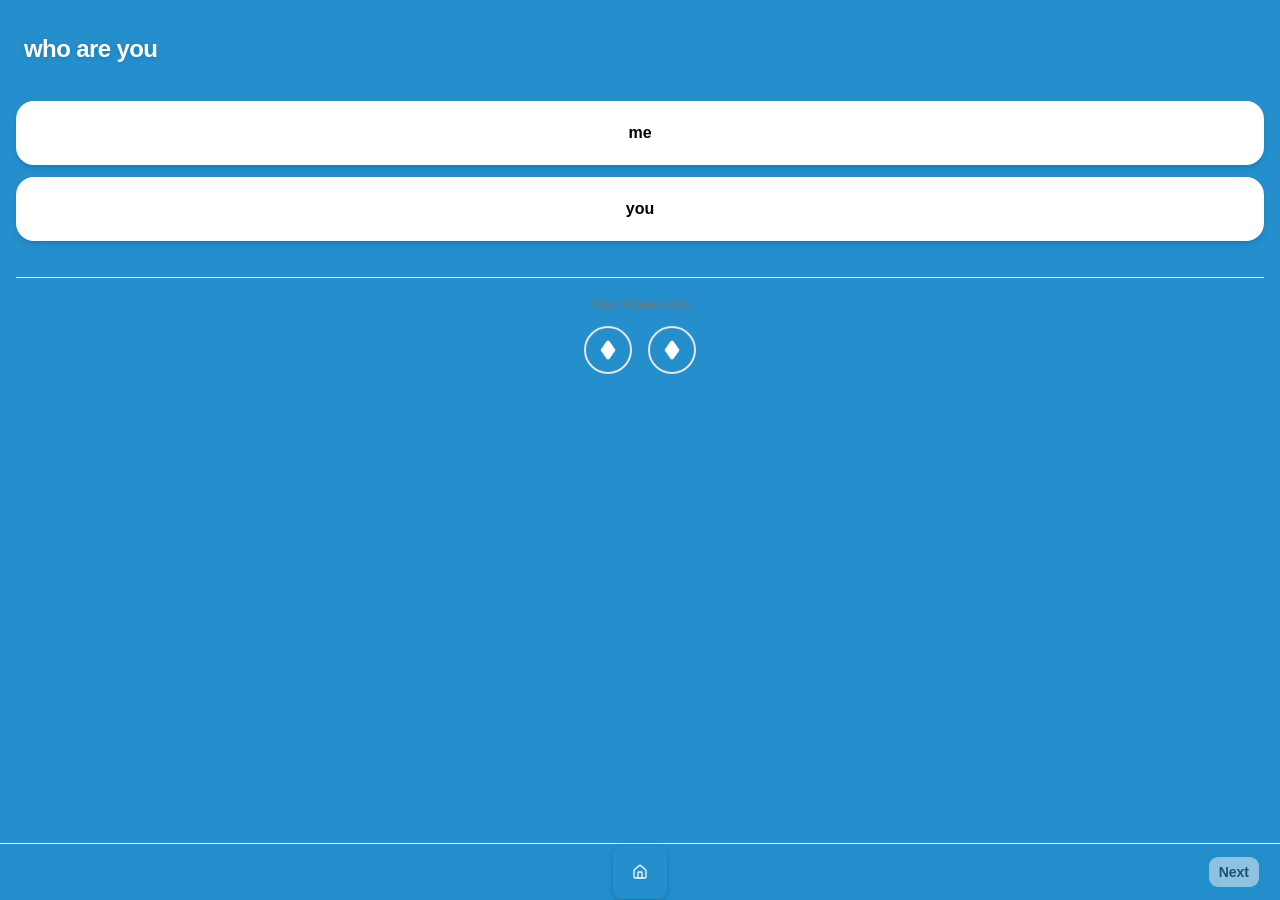
Test: QuizCard › expect power-up bar to be hidden after used a power-up item
The image size is (1280, 900).
Check: the heading "Your Power-Ups" is shown, box left=589, top=294, right=691, bottom=314
Click the 1st button named "HAMMER": [608, 350] box left=584, top=326, right=632, bottom=374
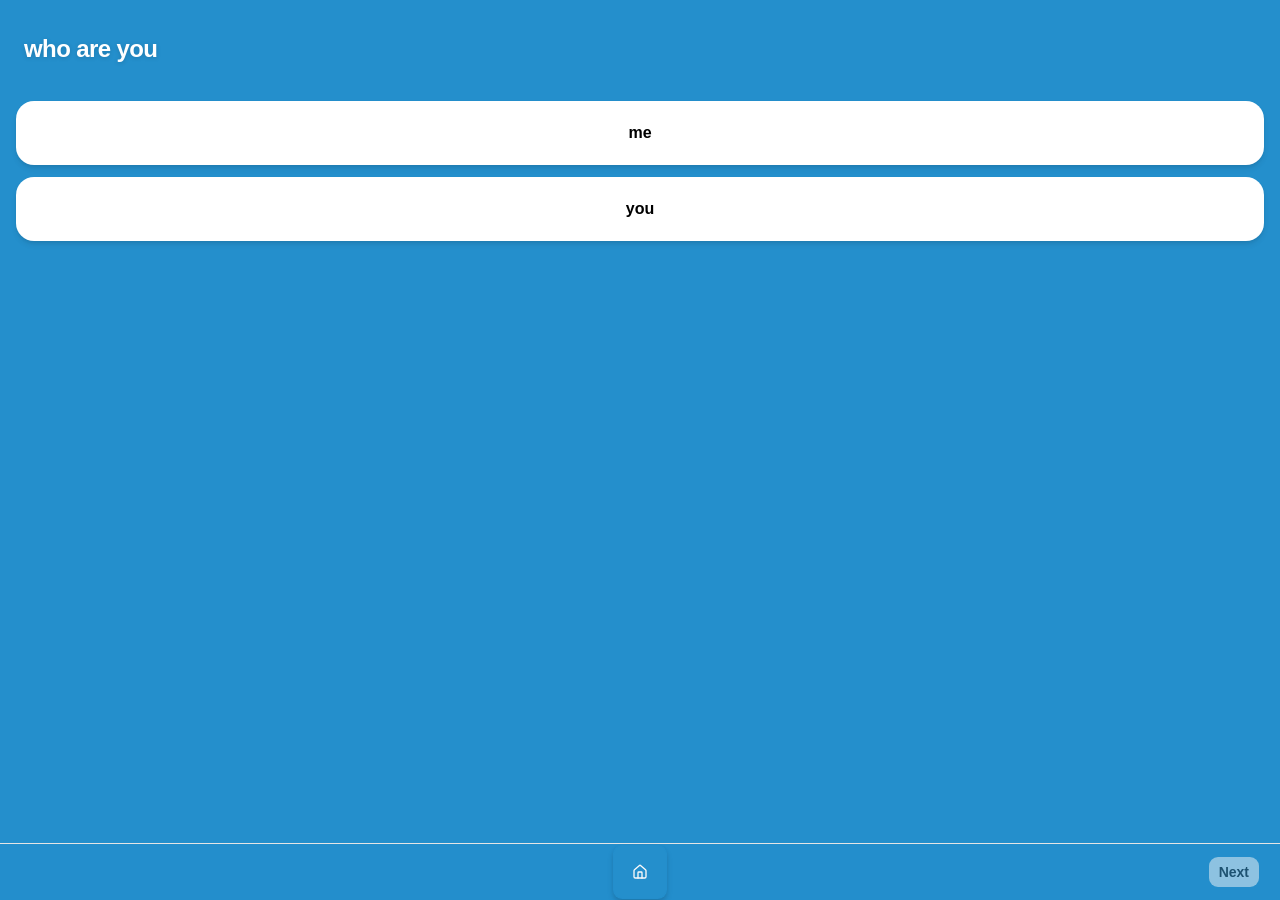
Check: the heading "Your Power-Ups" is gone
